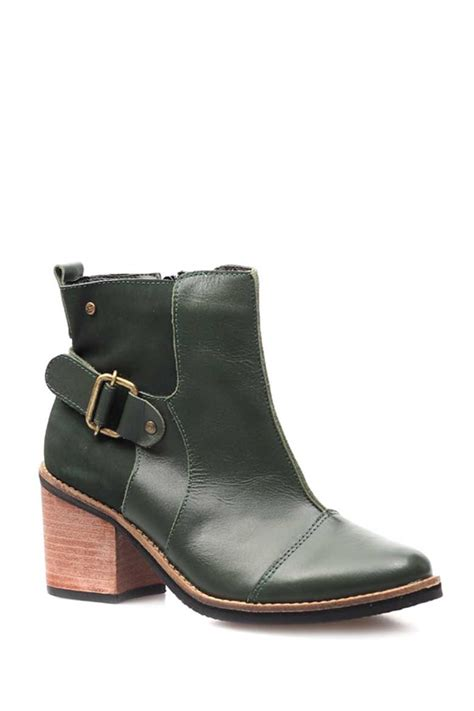cuero: (42, 261, 436, 610)
